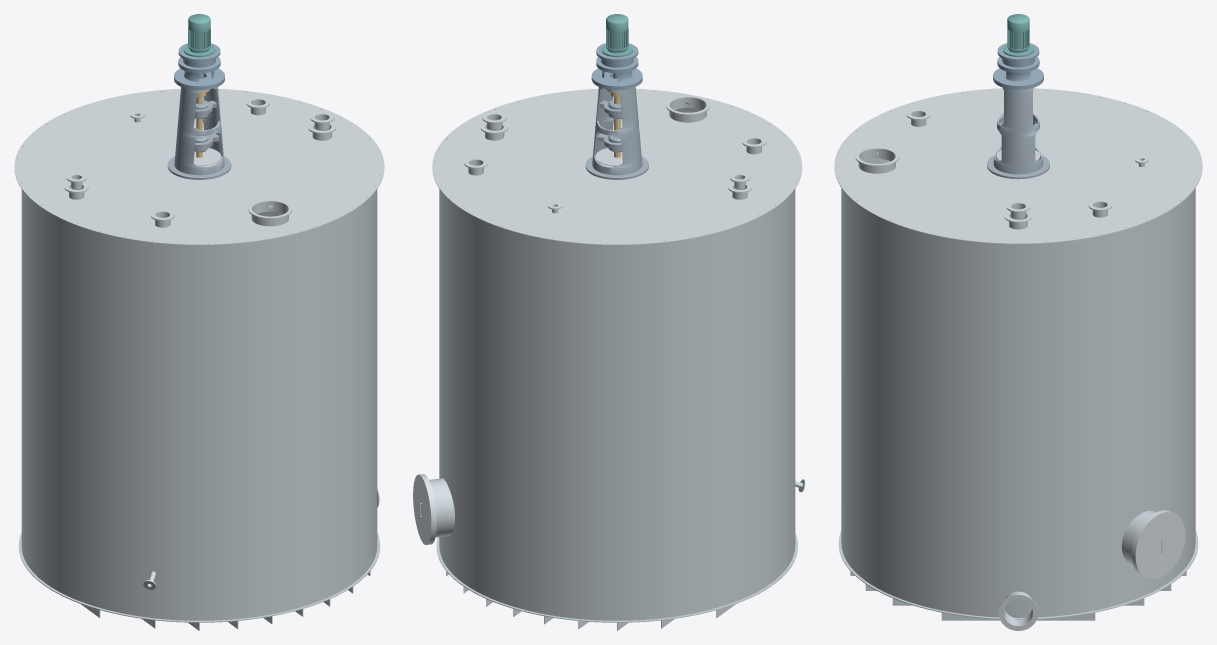
3 renders of one model, left to right at view 1: azimuth 30°, elevation 25°; view 2: azimuth 150°, elevation 25°; view 3: azimuth 270°, elevation 25°, orthographic.
Parts seen in each view (by area): view 1: 本体_钢壳, 盖面_开孔盖板, 搅拌_06_Tapered_window_frame_with_bored_seats, 本体_底板, 搅拌_01_Motor, 搅拌_02_Base_flange_top, 接口_h接管; view 2: 本体_钢壳, 盖面_开孔盖板, 搅拌_06_Tapered_window_frame_with_bored_seats, 本体_底板, 接口_k_人孔盖, 接口_k接管, 搅拌_01_Motor, 搅拌_02_Base_flange_top, 接口_h接管; view 3: 本体_钢壳, 盖面_开孔盖板, 搅拌_06_Tapered_window_frame_with_bored_seats, 接口_k_人孔盖, 本体_底板, 搅拌_01_Motor, 接口_b法兰, 接口_k接管, 接口_h接管, 搅拌_02_Base_flange_top, 设备底型钢_10.
Part boxes in pixels (x1,y1,x2,y2): 本体_钢壳: (21, 189, 377, 620); 盖面_开孔盖板: (14, 88, 384, 245); 搅拌_06_Tapered_window_frame_with_bored_seats: (174, 77, 224, 175); 本体_底板: (18, 533, 380, 622); 搅拌_01_Motor: (183, 14, 215, 57); 搅拌_02_Base_flange_top: (174, 68, 224, 88); 接口_h接管: (251, 202, 288, 226); 本体_钢壳: (439, 107, 795, 620); 盖面_开孔盖板: (432, 88, 802, 245); 搅拌_06_Tapered_window_frame_with_bored_seats: (592, 77, 642, 175); 本体_底板: (436, 533, 797, 622); 接口_k_人孔盖: (413, 474, 433, 544); 接口_k接管: (429, 478, 454, 537); 搅拌_01_Motor: (601, 14, 632, 57); 搅拌_02_Base_flange_top: (591, 68, 642, 88); 接口_h接管: (669, 98, 706, 122); 本体_钢壳: (841, 159, 1195, 617); 盖面_开孔盖板: (834, 88, 1202, 244); 搅拌_06_Tapered_window_frame_with_bored_seats: (993, 87, 1043, 174); 接口_k_人孔盖: (1133, 511, 1185, 579); 本体_底板: (838, 531, 1198, 619); 搅拌_01_Motor: (1003, 14, 1033, 56); 接口_b法兰: (998, 594, 1038, 630); 接口_k接管: (1121, 510, 1155, 565); 接口_h接管: (858, 149, 895, 173); 搅拌_02_Base_flange_top: (993, 68, 1043, 87); 设备底型钢_10: (941, 612, 1095, 620).
Size of the model in its own units: 5.38 by 8.37 by 5.22.
